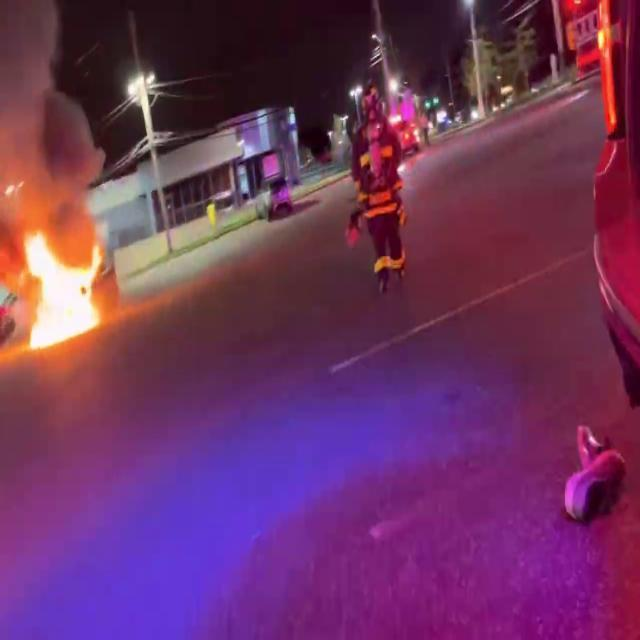Fire: (2, 221, 108, 351)
Smoke: (0, 0, 99, 229)
